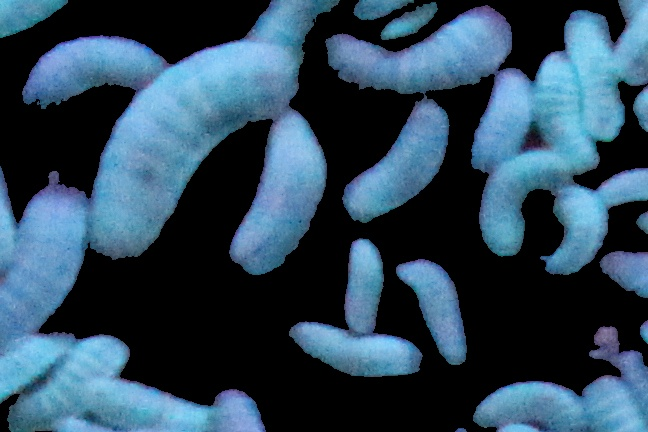larvae: (88, 43, 303, 256), (233, 105, 333, 277), (324, 8, 524, 94), (1, 182, 86, 350), (345, 101, 455, 222), (19, 36, 164, 117), (3, 338, 127, 429), (396, 256, 477, 370), (533, 50, 603, 177), (481, 151, 569, 250), (284, 318, 426, 379), (467, 363, 592, 432), (565, 18, 631, 141), (469, 72, 529, 168), (91, 386, 210, 432), (551, 182, 609, 275), (1, 332, 80, 399), (581, 368, 647, 432), (343, 234, 384, 329), (608, 1, 648, 86), (377, 2, 450, 44), (1, 1, 71, 42), (592, 163, 648, 211), (601, 243, 648, 300), (1, 139, 15, 289)
